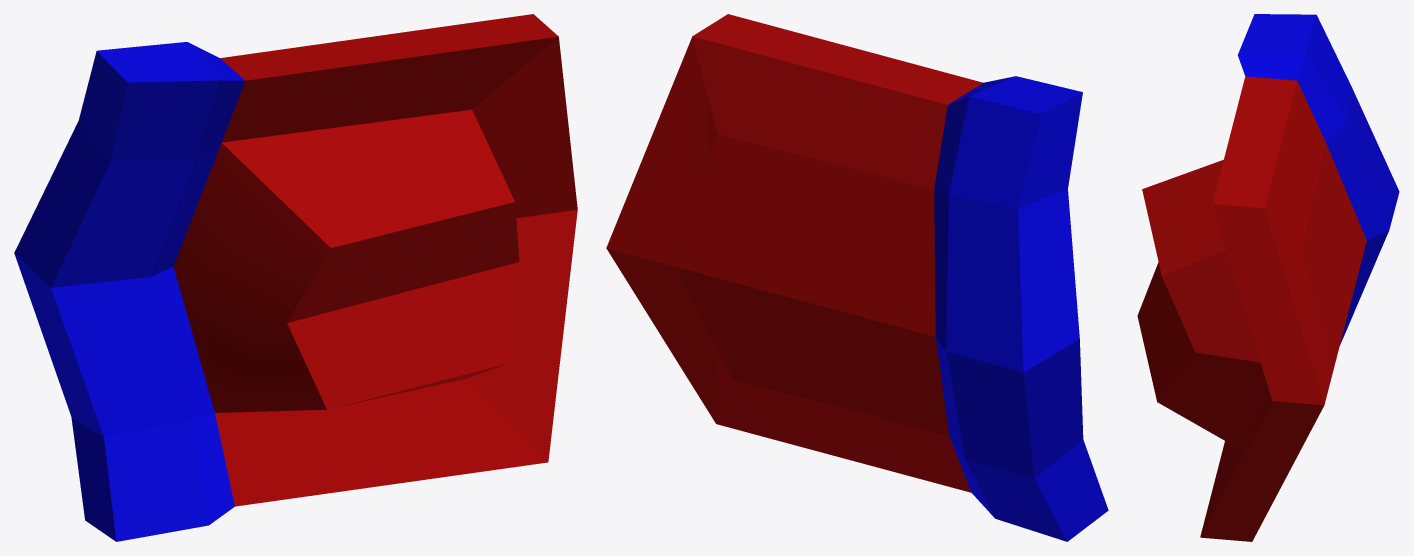
Rendered from Chr_ElbowAttachLeft_Static_02.fbx.
3 views of the same model, side by side, from view 1: azimuth 30°, elevation 25°; view 2: azimuth 150°, elevation 25°; view 3: azimuth 270°, elevation 25° (orthographic). The views are drawn at different scales.
Parts seen in each view (by area): view 1: Chr_ElbowAttachLeft_02; view 2: Chr_ElbowAttachLeft_02; view 3: Chr_ElbowAttachLeft_02.
Part boxes in pixels (x1=…): Chr_ElbowAttachLeft_02: x1=14, y1=14, x2=577, y2=541; Chr_ElbowAttachLeft_02: x1=606, y1=14, x2=1108, y2=541; Chr_ElbowAttachLeft_02: x1=1137, y1=14, x2=1399, y2=541.
Bounding box in the file's own units: 12.53 × 10.91 × 6.89.
